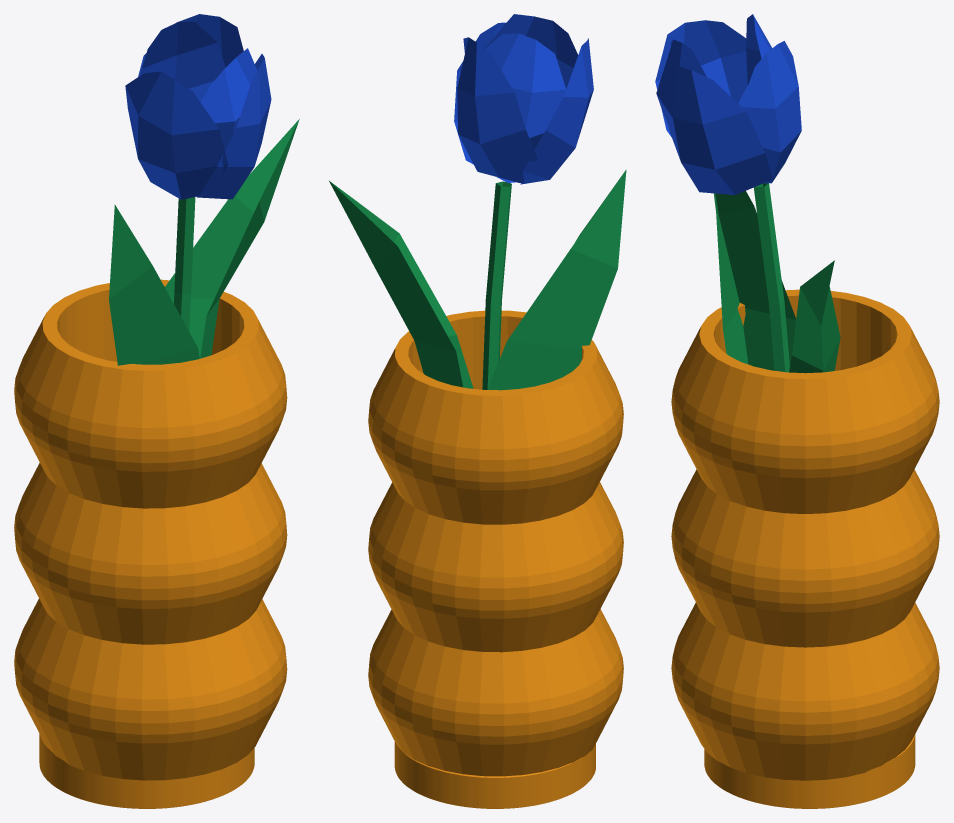
Rendered from exfrower.fbx.
3 views of the same model, side by side, from view 1: azimuth 30°, elevation 25°; view 2: azimuth 150°, elevation 25°; view 3: azimuth 270°, elevation 25° (orthographic). The views are drawn at different scales.
Visible parts, largest first — view 1: 円柱.002, hana, ha, 円柱; view 2: 円柱.002, ha, hana, 円柱; view 3: 円柱.002, hana, ha, 円柱.
Part boxes in pixels (left/top/right/bottom): 円柱.002: left=14, top=279, right=287, bottom=780; hana: left=125, top=14, right=271, bottom=199; ha: left=109, top=119, right=299, bottom=365; 円柱: left=39, top=734, right=254, bottom=808; 円柱.002: left=368, top=310, right=623, bottom=776; ha: left=329, top=169, right=626, bottom=390; hana: left=454, top=14, right=593, bottom=184; 円柱: left=394, top=741, right=595, bottom=808; 円柱.002: left=671, top=289, right=939, bottom=780; hana: left=655, top=14, right=801, bottom=194; ha: left=713, top=183, right=840, bottom=373; 円柱: left=704, top=734, right=915, bottom=808.
Bounding box in the file's own units: 53.64 × 138 × 47.7.
